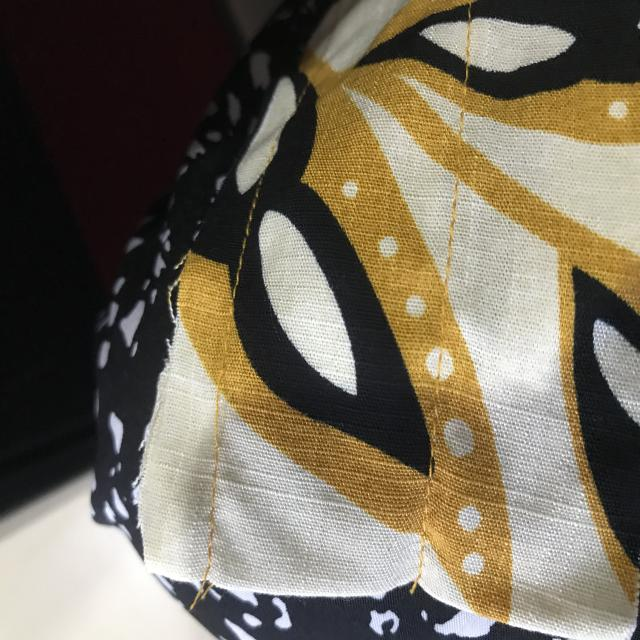skip: (198, 358, 245, 456)
